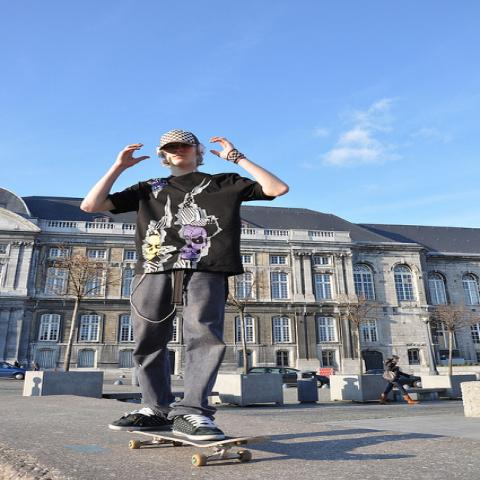car: (243, 366, 330, 387), (0, 362, 27, 380), (396, 376, 422, 388)
